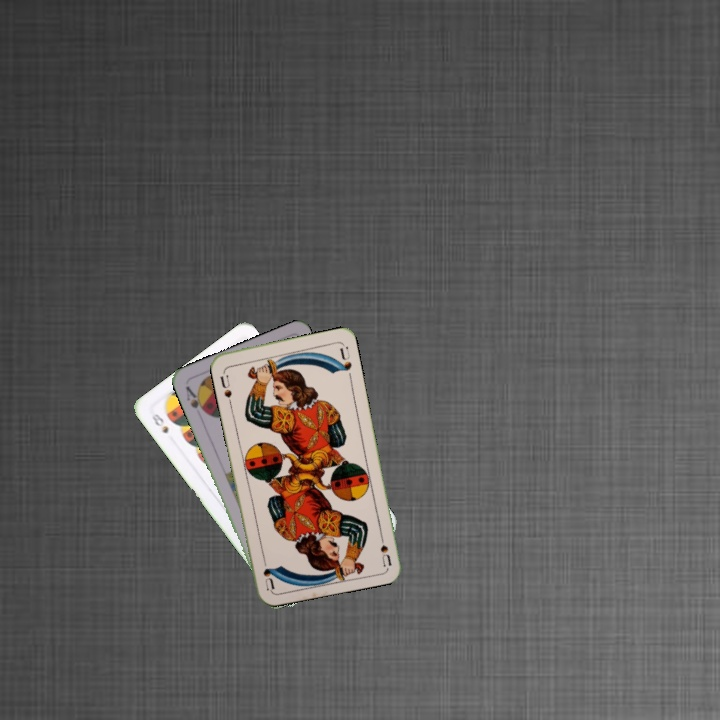S8: (146, 409, 171, 436)
SA: (182, 382, 209, 417)
SU: (375, 527, 394, 568), (216, 371, 234, 400)
